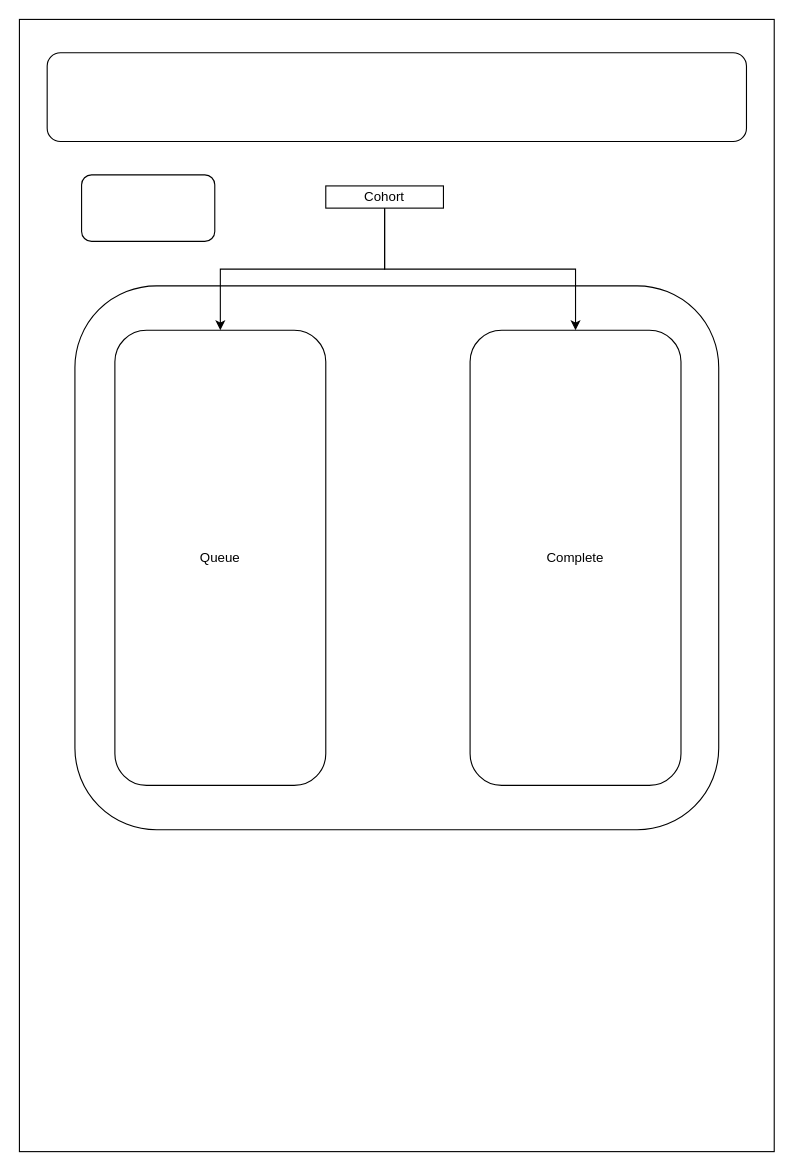
Some shapes in this 794 by 1171 pixel diagram are drawn without their labels. Each missing label, with the box of its shape:
Banner: (46, 52, 746, 142)
Create a ticket: (80, 174, 215, 241)
